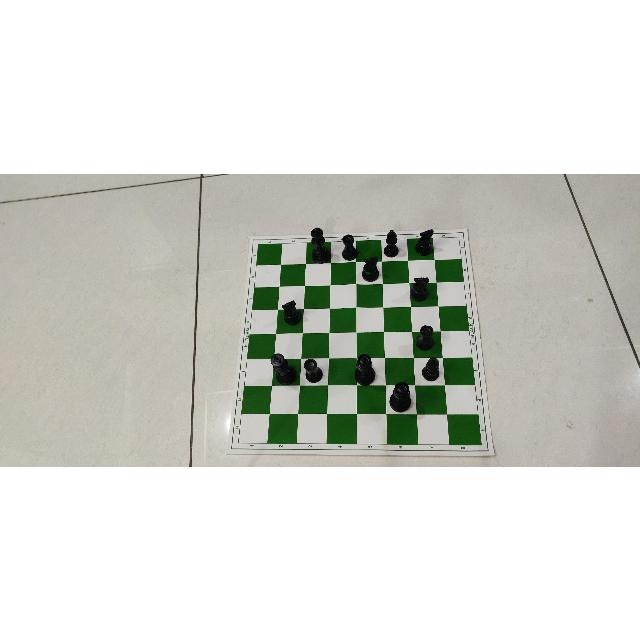black-bishop: (383, 227, 401, 257), (421, 355, 442, 380)
black-king: (268, 354, 300, 384), (309, 226, 331, 262)
black-knight: (279, 298, 302, 326), (414, 227, 435, 254), (361, 256, 381, 282), (409, 275, 430, 299)
black-queen: (388, 380, 411, 412), (355, 353, 377, 385)
black-rook: (413, 325, 436, 349), (302, 358, 323, 384), (341, 234, 359, 259)
